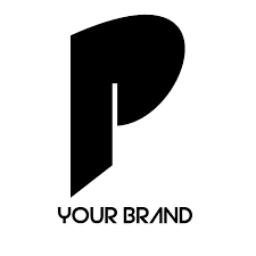p: (58, 5, 188, 201)
